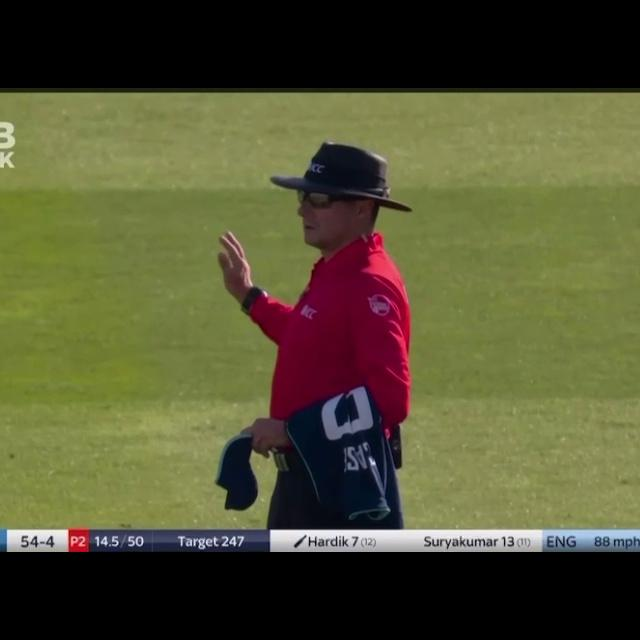umpire: (196, 132, 430, 532)
